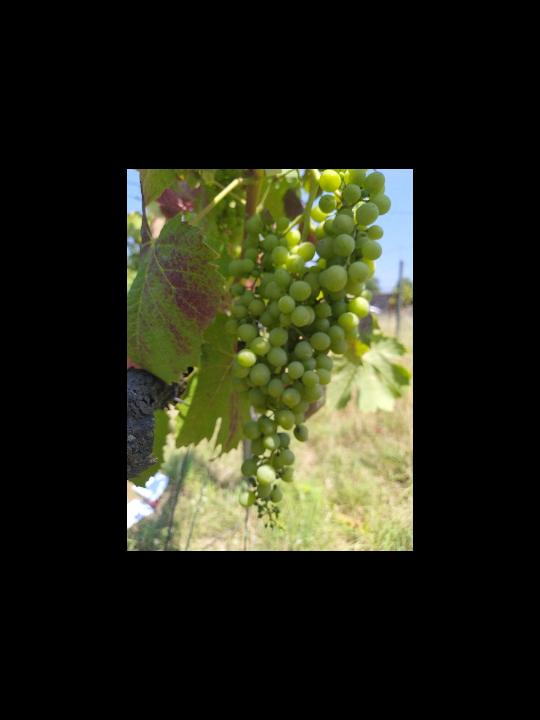grape: (220, 171, 392, 533)
